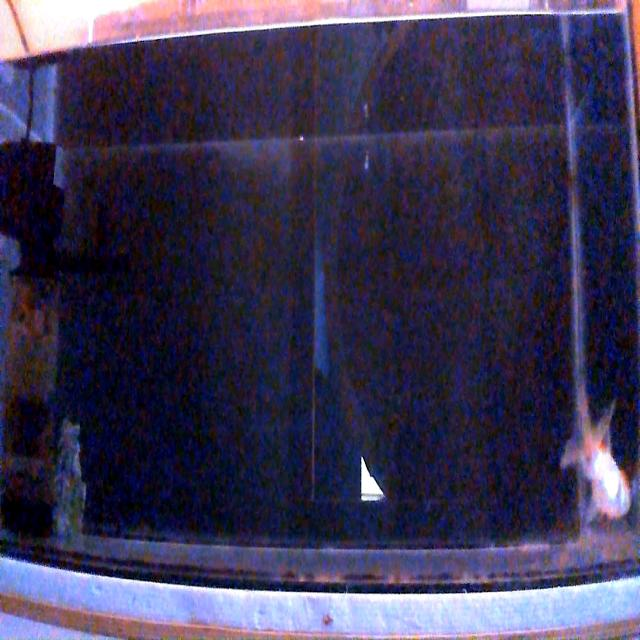fish: (561, 398, 633, 525)
